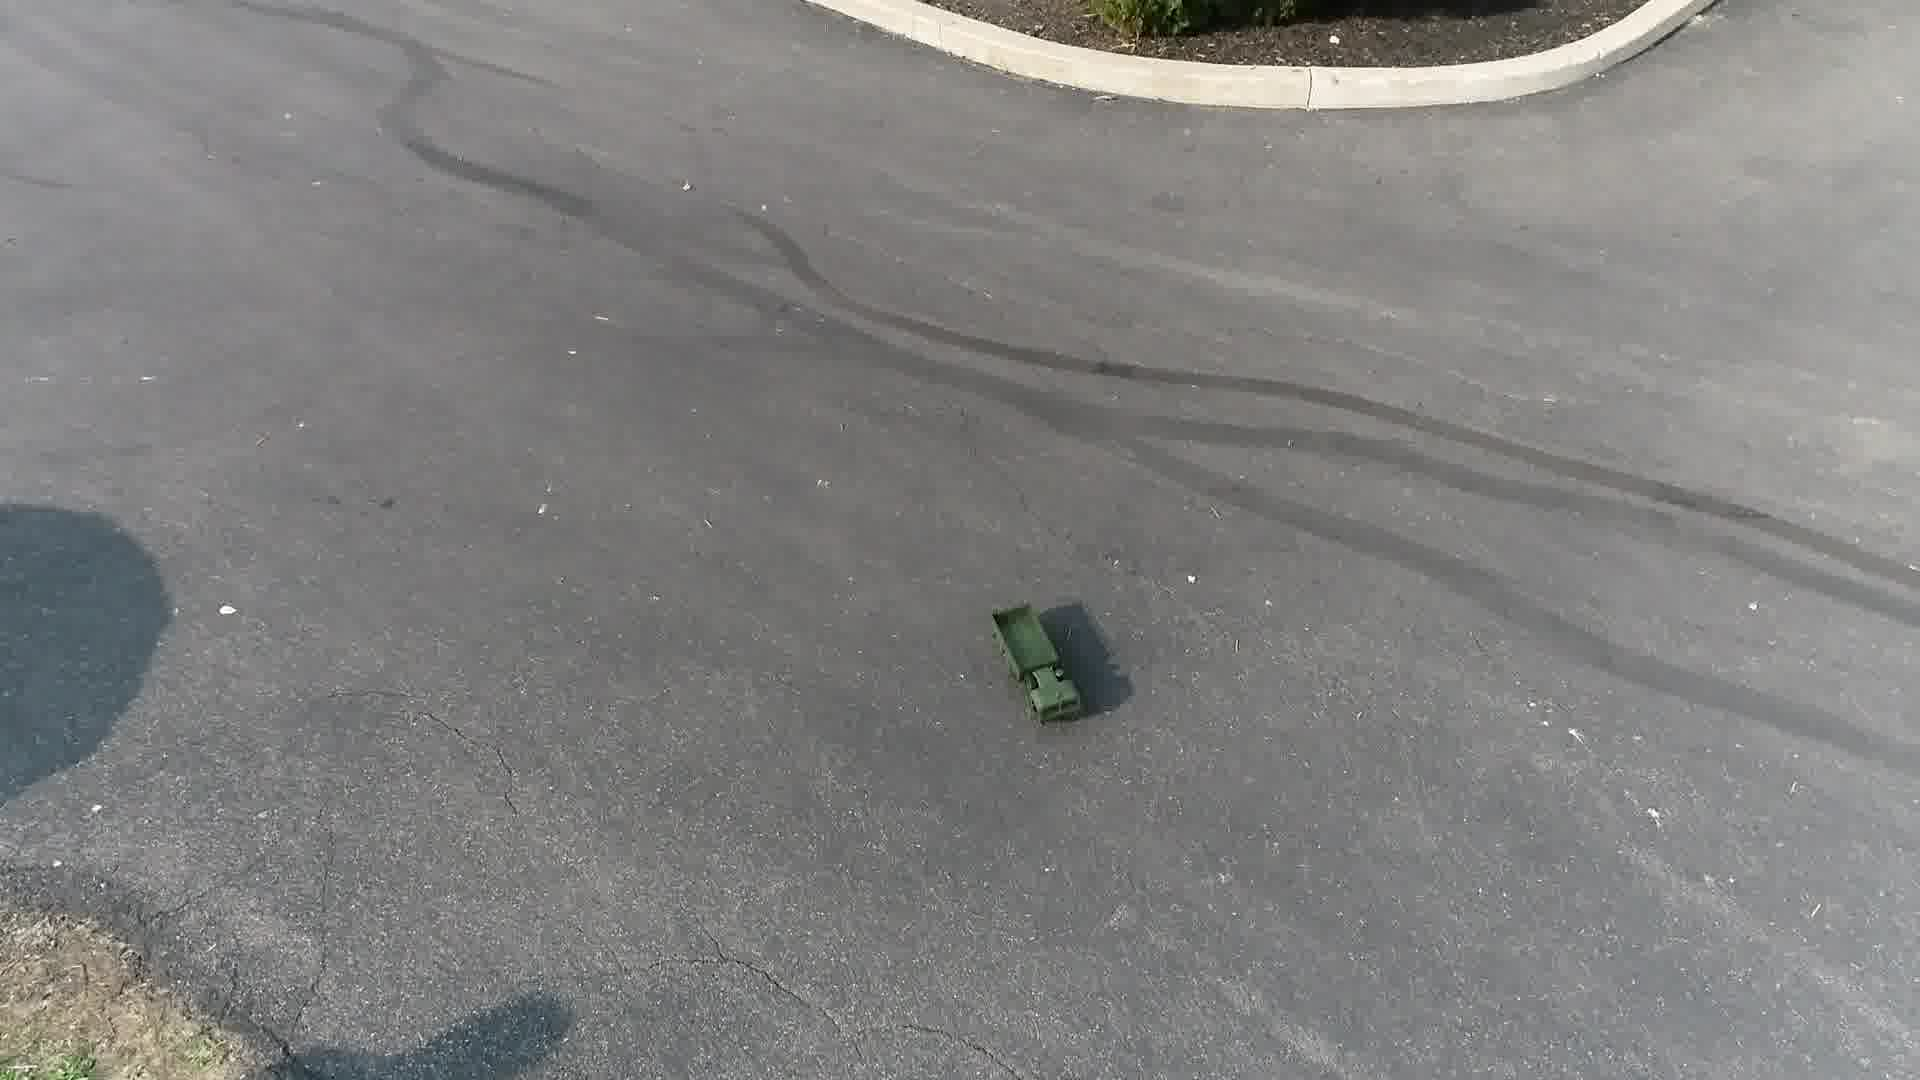transporter9: (978, 583, 1089, 727)
